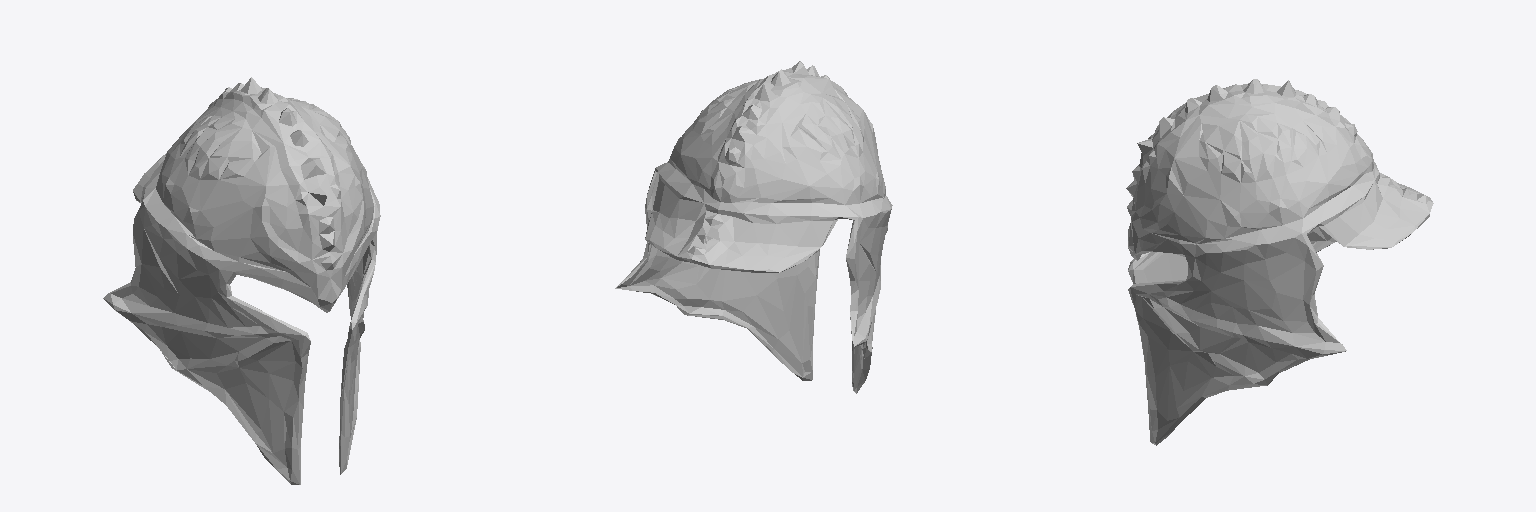
Rendered from elmo.obj.
The picture shows the model from 3 angles: view 1: azimuth 30°, elevation 25°; view 2: azimuth 150°, elevation 25°; view 3: azimuth 270°, elevation 25°; orthographic projection.
Size of the model in its own units: 4.14 by 5.83 by 4.59.